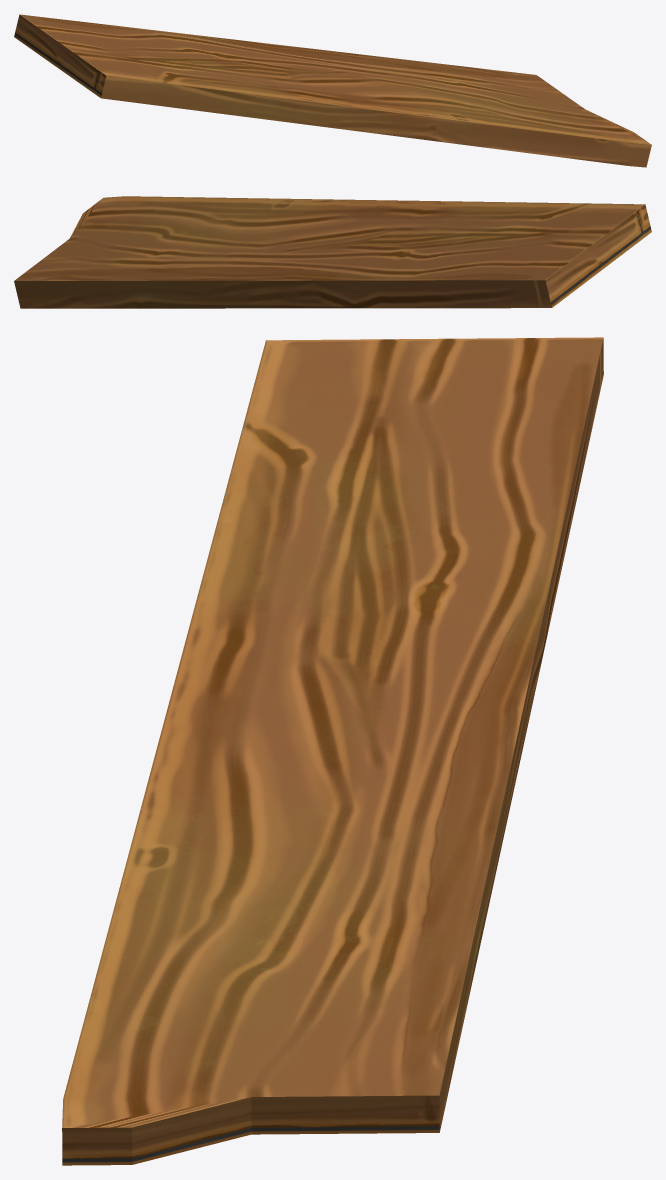
3 renders of one model, top to bottom at view 1: azimuth 30°, elevation 25°; view 2: azimuth 150°, elevation 25°; view 3: azimuth 270°, elevation 25°, orthographic. The views are drawn at different scales.
Parts seen in each view (by area): view 1: Cube.1149; view 2: Cube.1149; view 3: Cube.1149.
Part boxes in pixels (bbox=[...]): Cube.1149: bbox=[14, 14, 651, 167]; Cube.1149: bbox=[14, 196, 651, 308]; Cube.1149: bbox=[62, 337, 603, 1165].
Size of the model in its own units: 237 by 78.47 by 111.
Materials: 1 (1 with a texture image).
